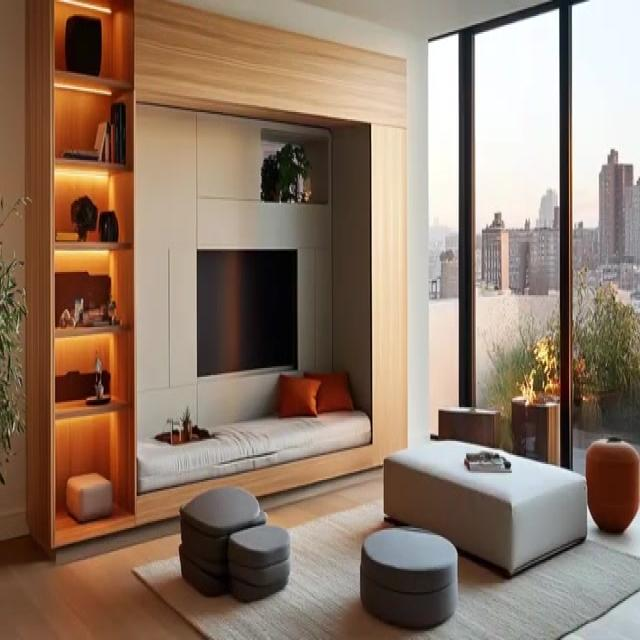obstacle: (24, 0, 136, 556), (136, 368, 371, 523)
